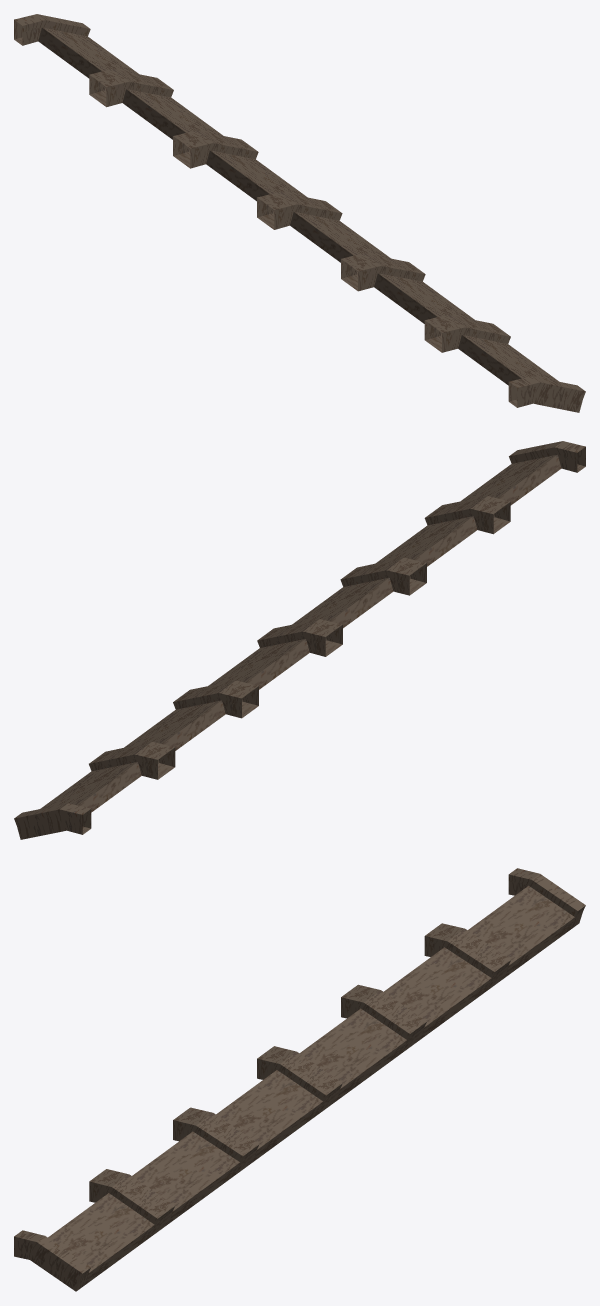
Rendered from eaves.fbx.
3 views of the same model, one above another, from view 1: azimuth 30°, elevation 25°; view 2: azimuth 150°, elevation 25°; view 3: azimuth 330°, elevation 25° (orthographic).
Parts seen in each view (by area): view 1: Eaves; view 2: Eaves; view 3: Eaves.
Part boxes in pixels (x1,y1,x2,y2): Eaves: [14, 14, 585, 412]; Eaves: [14, 441, 585, 839]; Eaves: [14, 868, 585, 1291].
Size of the model in its own units: 47.31 by 26.38 by 600.
